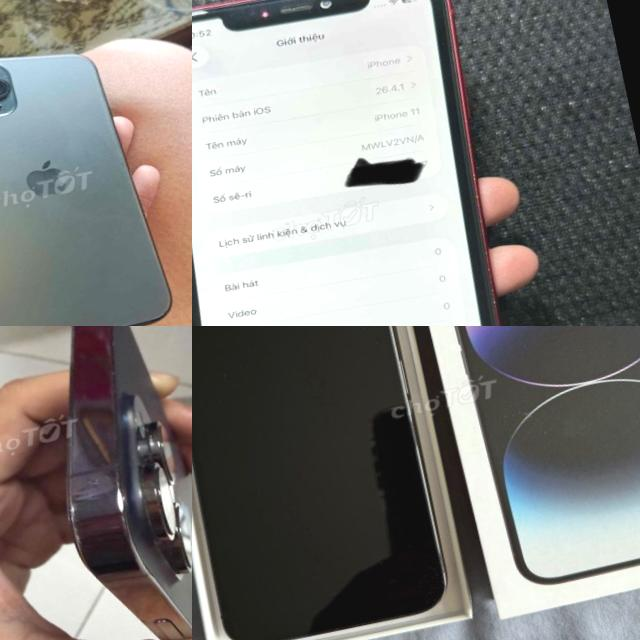scratch: (192, 191, 214, 326), (0, 51, 20, 128)
